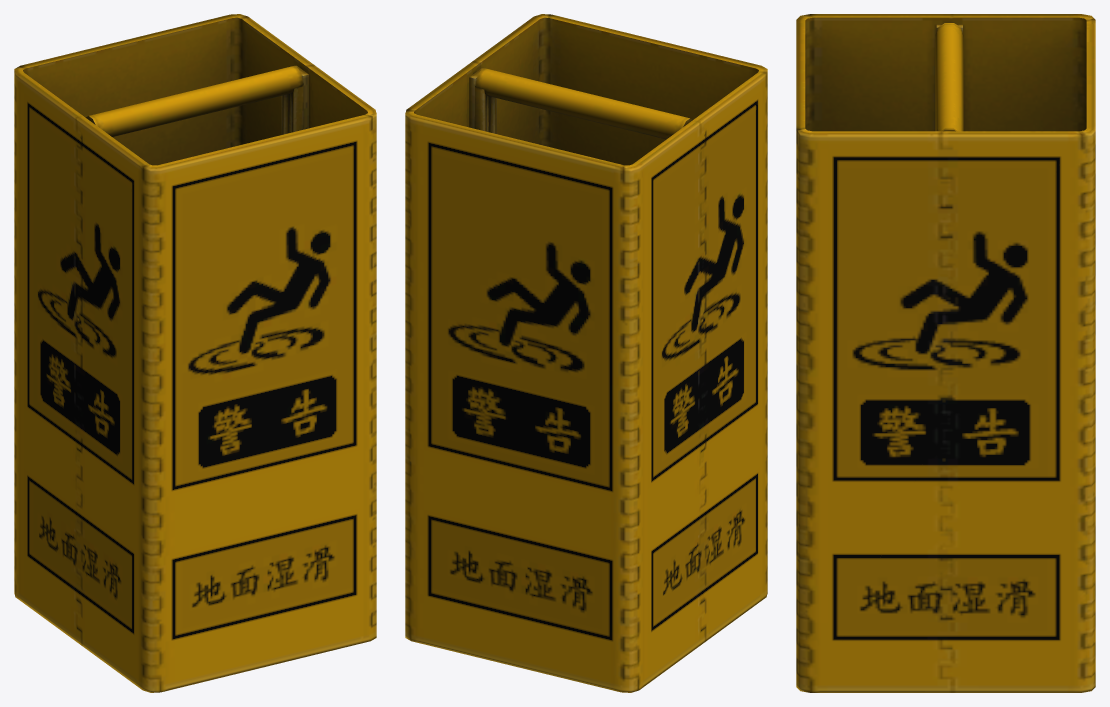
Rendered from wet_floor_sign.dae.
3 views of the same model, side by side, from view 1: azimuth 30°, elevation 25°; view 2: azimuth 150°, elevation 25°; view 3: azimuth 270°, elevation 25° (orthographic). The views are drawn at different scales.
Parts seen in each view (by area): view 1: low; view 2: low; view 3: low.
Part boxes in pixels (left/top/right/bottom): low: left=14, top=14, right=376, bottom=692; low: left=405, top=14, right=767, bottom=692; low: left=796, top=14, right=1095, bottom=692.
Bounding box in the file's own units: 0.2696 × 0.5795 × 0.282.
